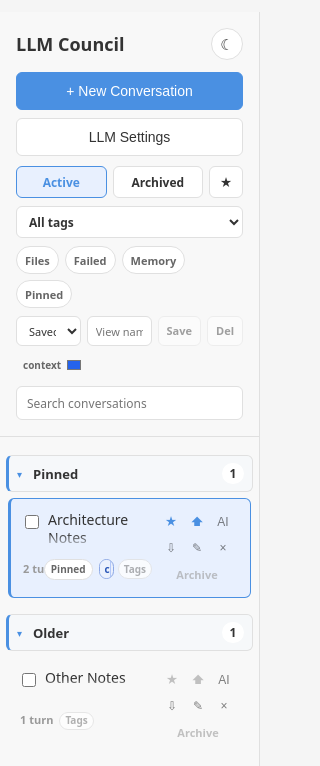
it: Sidebar conversation management controls › shows a status when generated titles match the current title
Click the button titled "Auto title with LLM" next to "Architecture Notes" at {"x": 223, "y": 522}, box top-left (212, 511), bottom-right (234, 533)
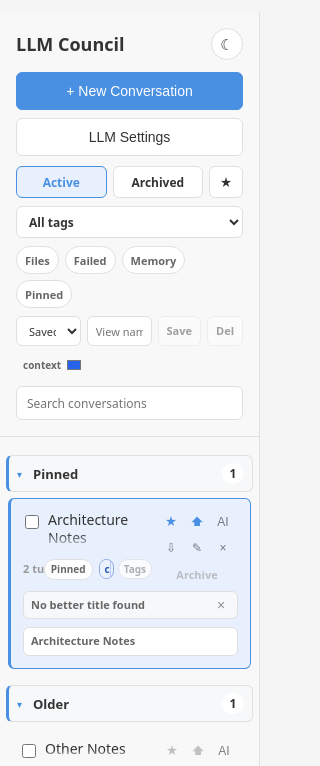
Expected: the text "No better title found" is shown, top-left (31, 598), bottom-right (145, 612)
